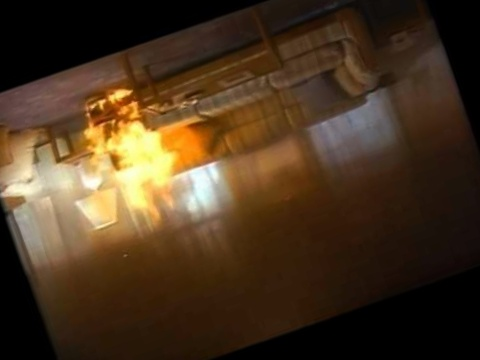fire: (57, 66, 195, 234)
smoke: (199, 111, 480, 360)
